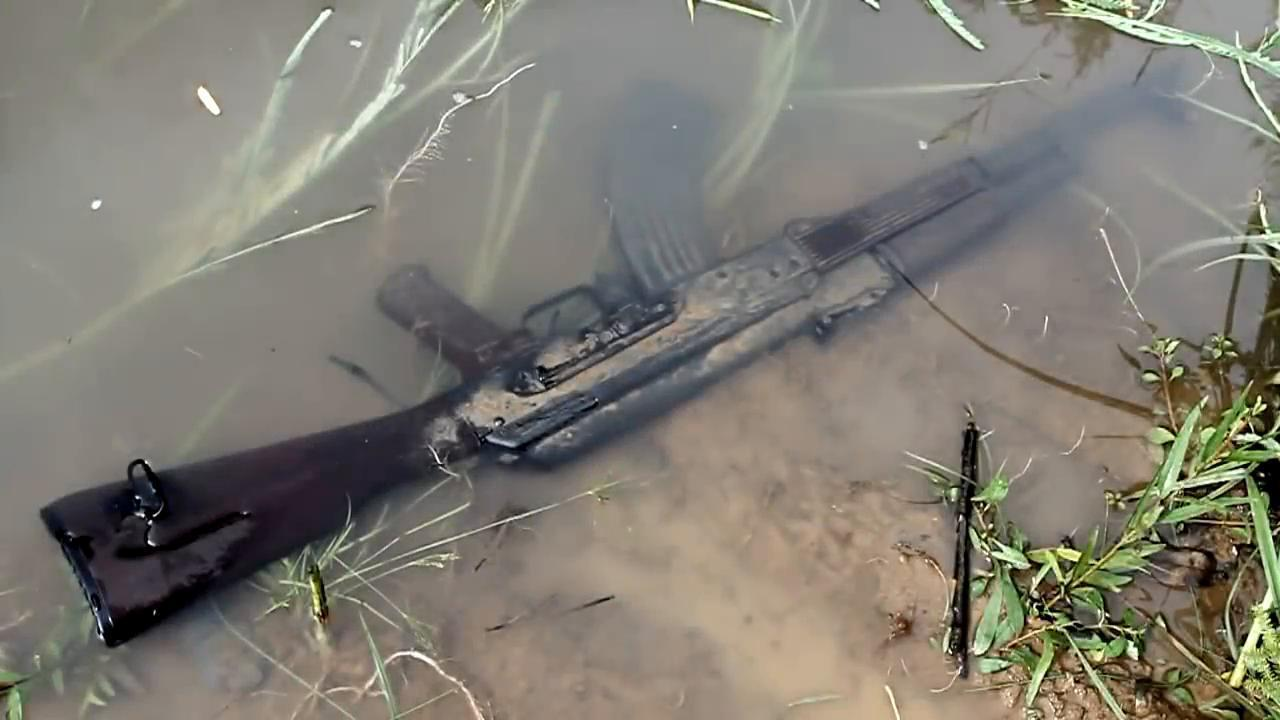AK47 Rifle: (36, 58, 1196, 647)
